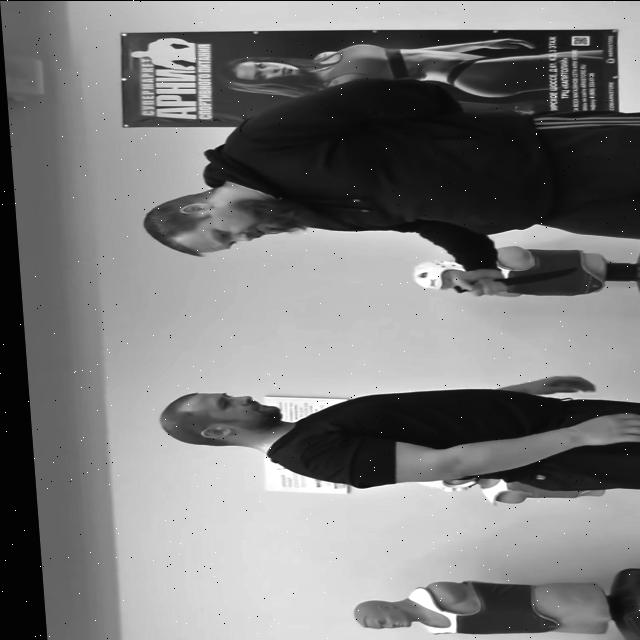knife: (489, 266, 576, 284)
